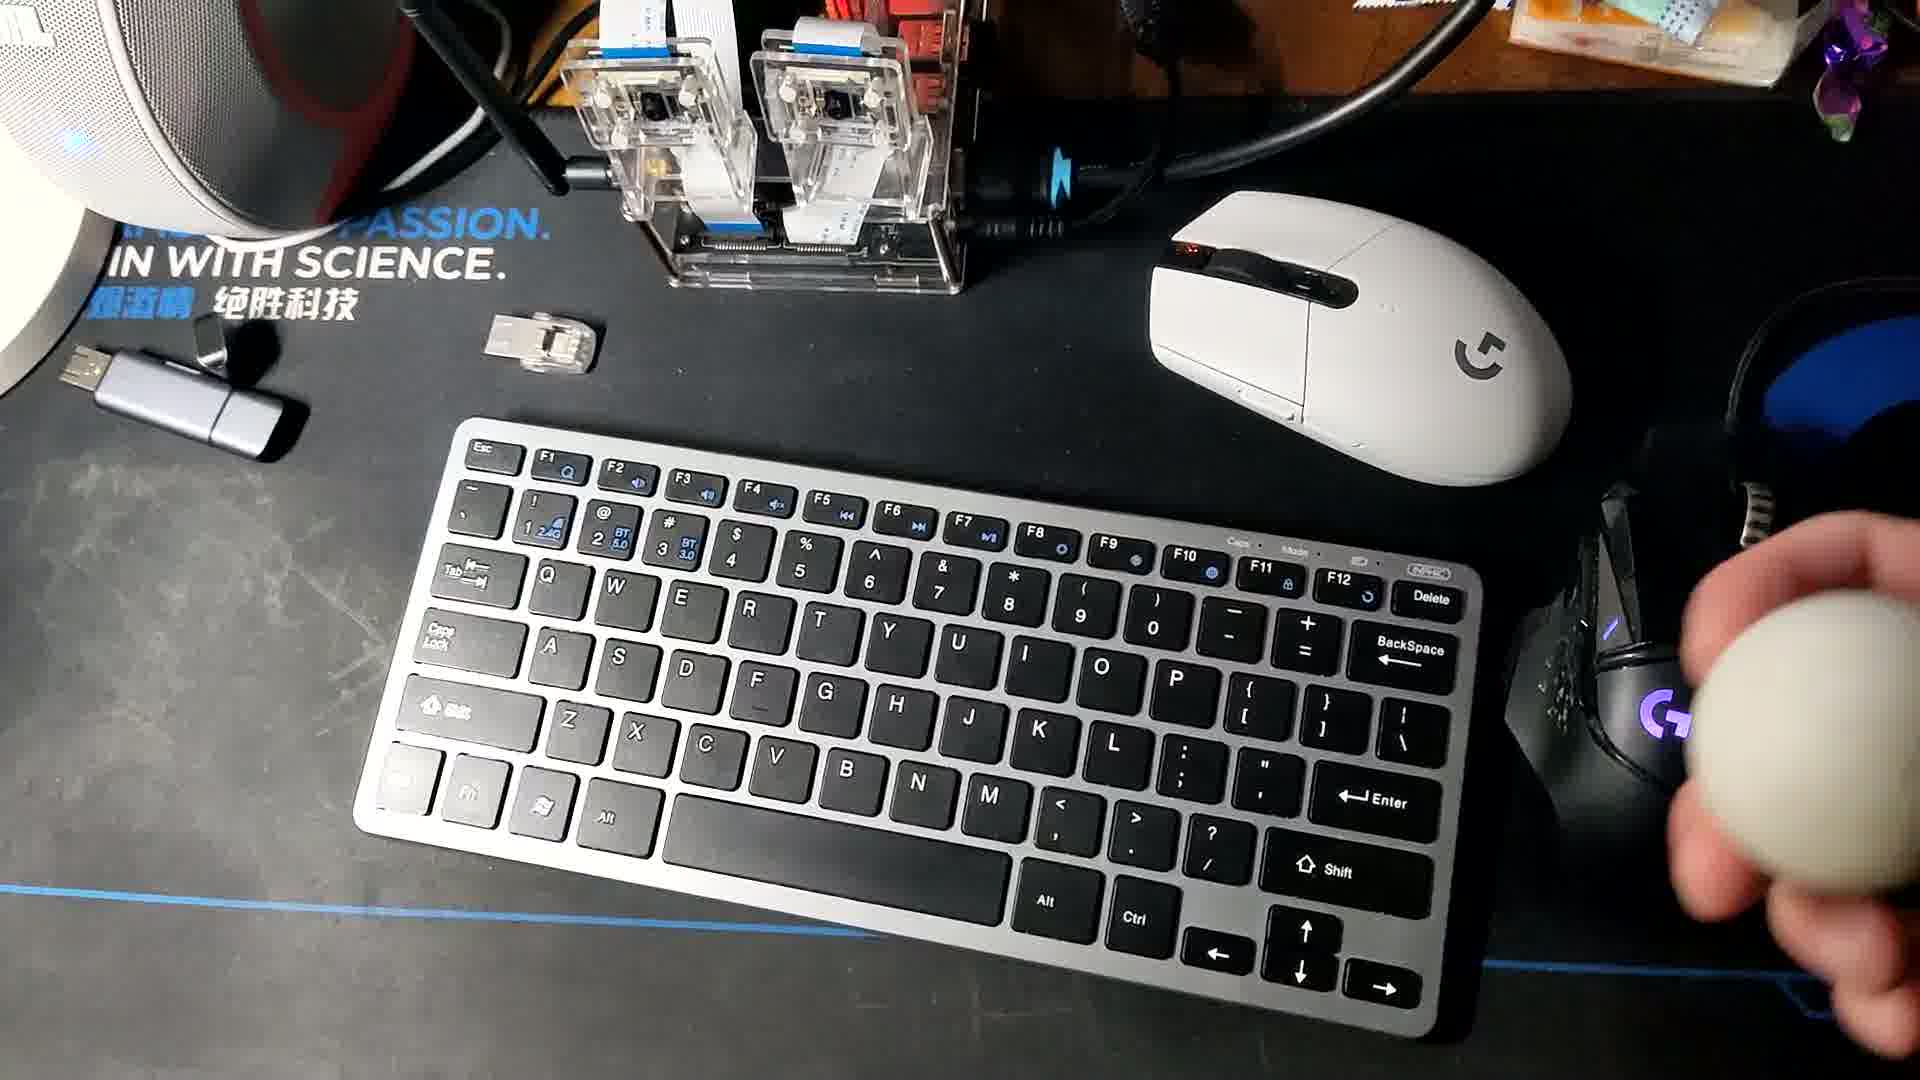Ball: (1669, 593, 1920, 905)
